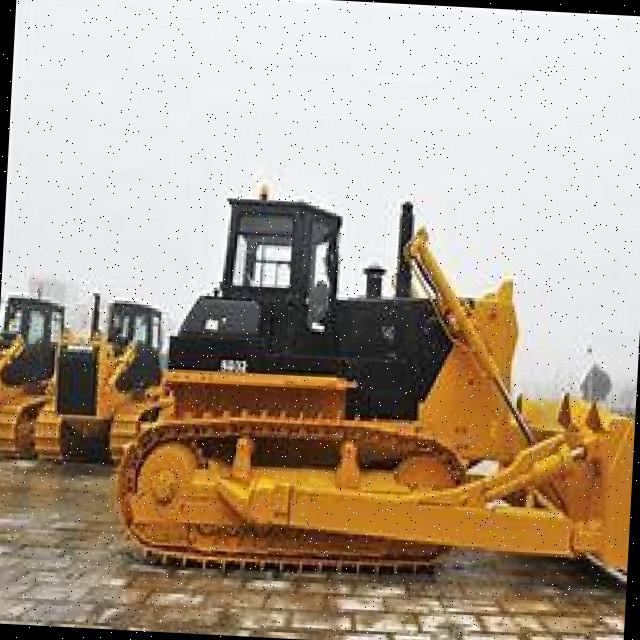Bulldozer: (110, 151, 640, 608)
